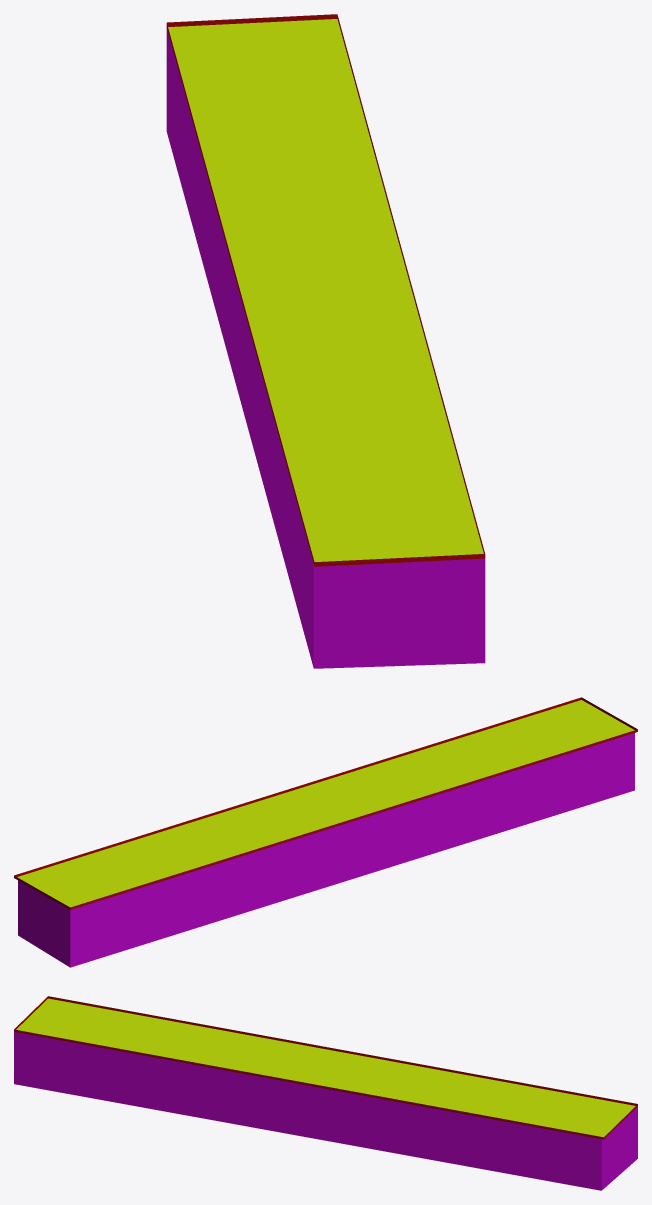
Rendered from bgj_23.glb.
3 renders of one model, top to bottom at view 1: azimuth 30°, elevation 25°; view 2: azimuth 150°, elevation 25°; view 3: azimuth 270°, elevation 25°, orthographic. The views are drawn at different scales.
Parts seen in each view (by area): view 1: bgj_23; view 2: bgj_23; view 3: bgj_23.
Boxes of the visible parts, bbox=[...] form: bgj_23: bbox=[166, 14, 485, 668]; bgj_23: bbox=[14, 697, 637, 967]; bgj_23: bbox=[14, 996, 637, 1190].
Size of the model in its own units: 45.04 by 8.13 by 84.12.
